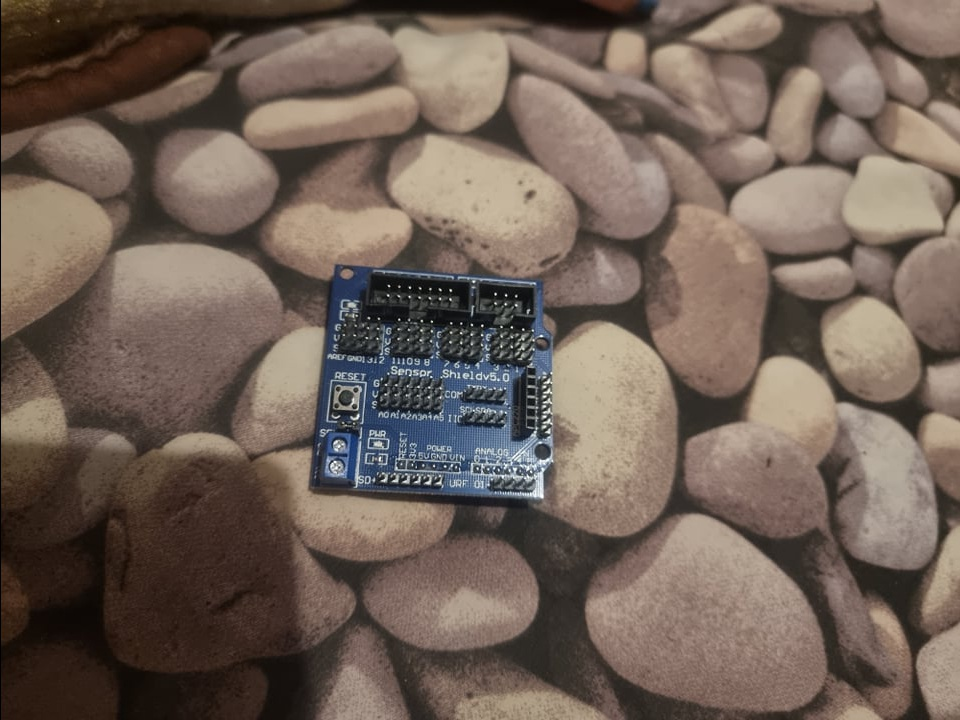5V EXPANSION: (312, 263, 550, 496)
